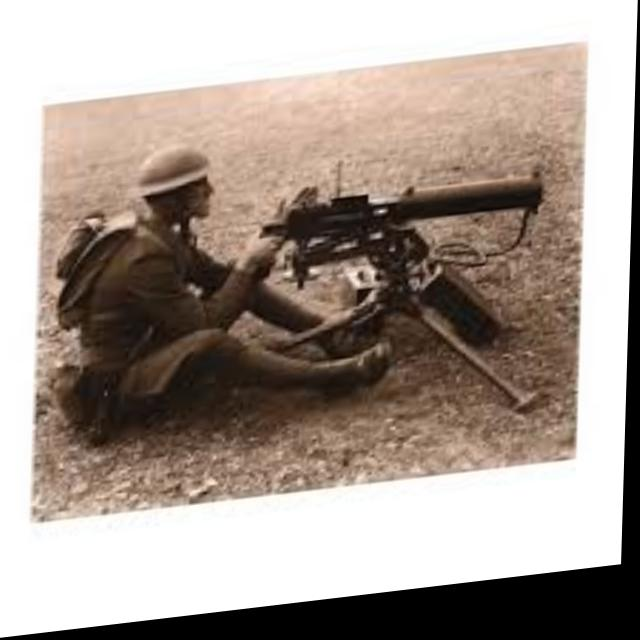other: (77, 147, 272, 439)
